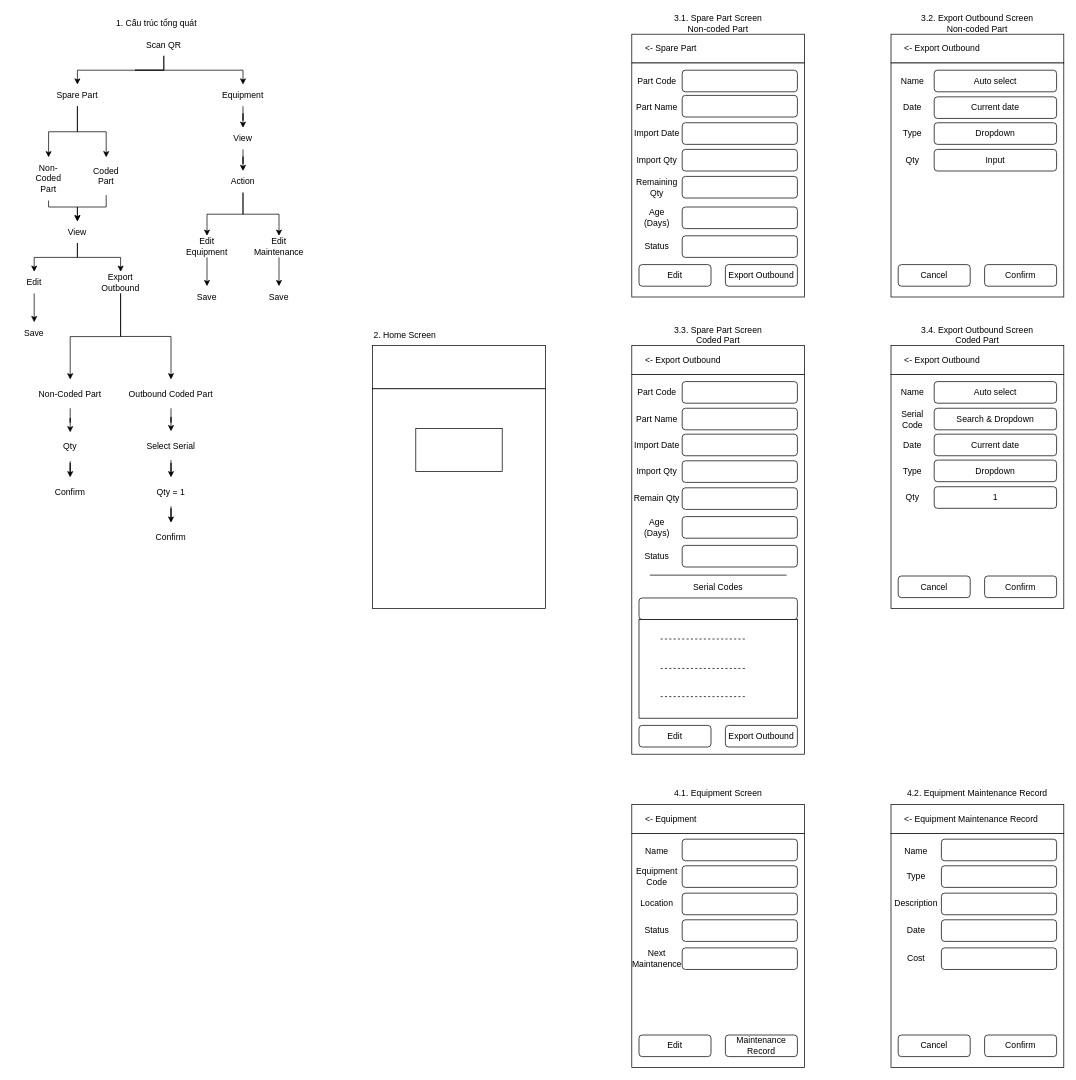
The diagram is 1076 pixels wide and 1080 high, and some of its shapes have lost their labels. The centre of each missing label's shape, as x and y in pixels:
CMMS QR Scanner Hi, Username: [458,367]
SCAN QR CODE: [458,450]
Search Serial Code: [717,608]
